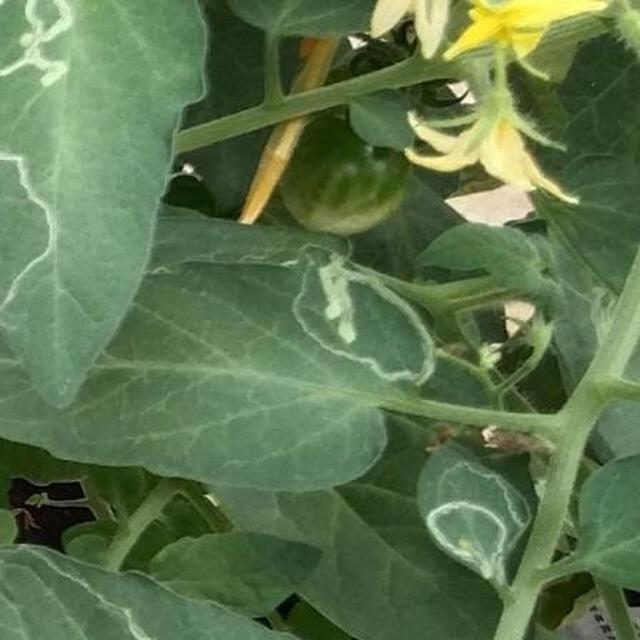Leaf Miner: (150, 208, 640, 640)
